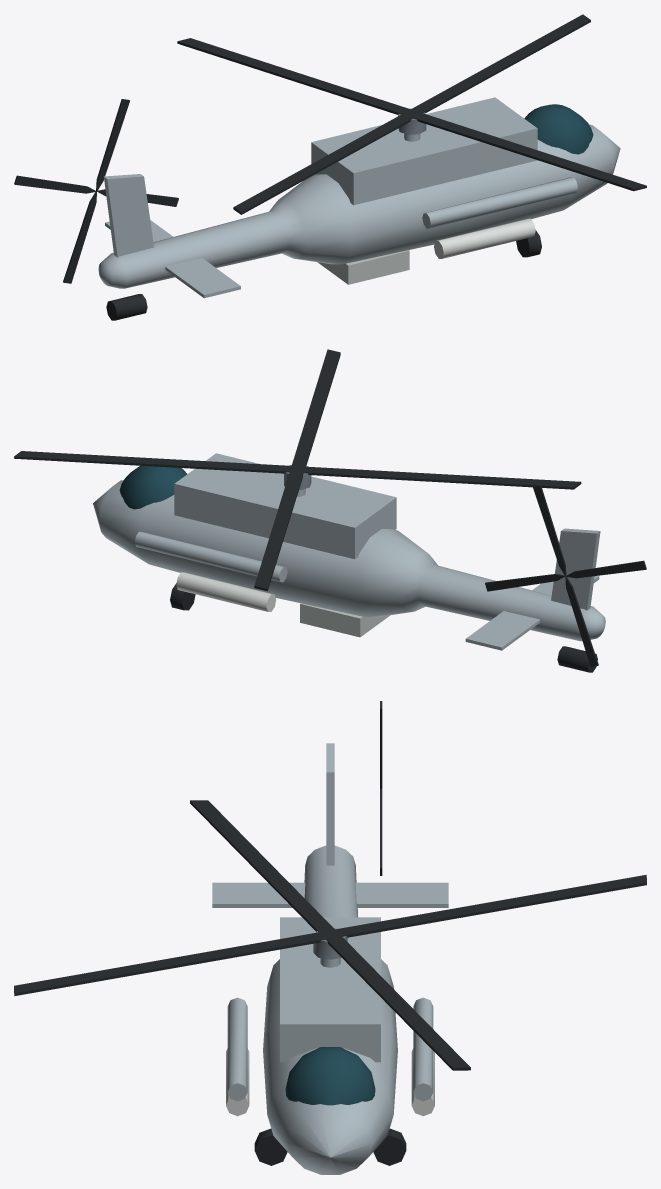
The model's file is jmsdf_helo_sh60k.glb.
The picture shows the model from 3 angles, top to bottom: view 1: azimuth 30°, elevation 25°; view 2: azimuth 150°, elevation 25°; view 3: azimuth 270°, elevation 25°; orthographic projection. The views are drawn at different scales.
Parts seen in each view (by area): view 1: naval_paint, rubber, glazing, missile_body, array_face; view 2: naval_paint, rubber, glazing, missile_body, array_face; view 3: naval_paint, rubber, glazing, missile_body.
Boxes of the visible parts, x1,y1,x2,y2 form: naval_paint: [98, 97, 620, 298]; rubber: [14, 14, 646, 320]; glazing: [524, 104, 593, 154]; missile_body: [434, 218, 535, 258]; array_face: [318, 250, 409, 284]; naval_paint: [93, 453, 605, 650]; rubber: [14, 349, 646, 672]; glazing: [119, 465, 187, 509]; missile_body: [176, 572, 276, 611]; array_face: [300, 603, 389, 637]; naval_paint: [212, 743, 448, 1174]; rubber: [14, 701, 646, 1165]; glazing: [285, 1047, 375, 1105]; missile_body: [226, 1048, 434, 1116].
Bounding box in the file's own units: 10 × 3.33 × 7.59.
